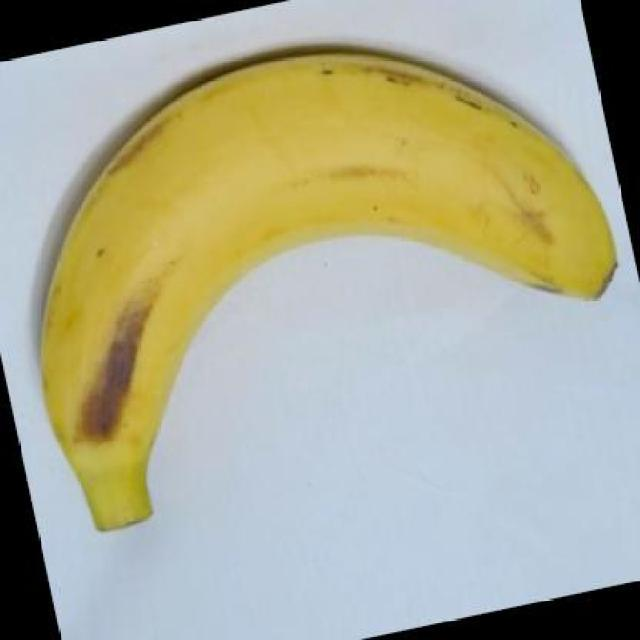ripe: (39, 44, 625, 519)
